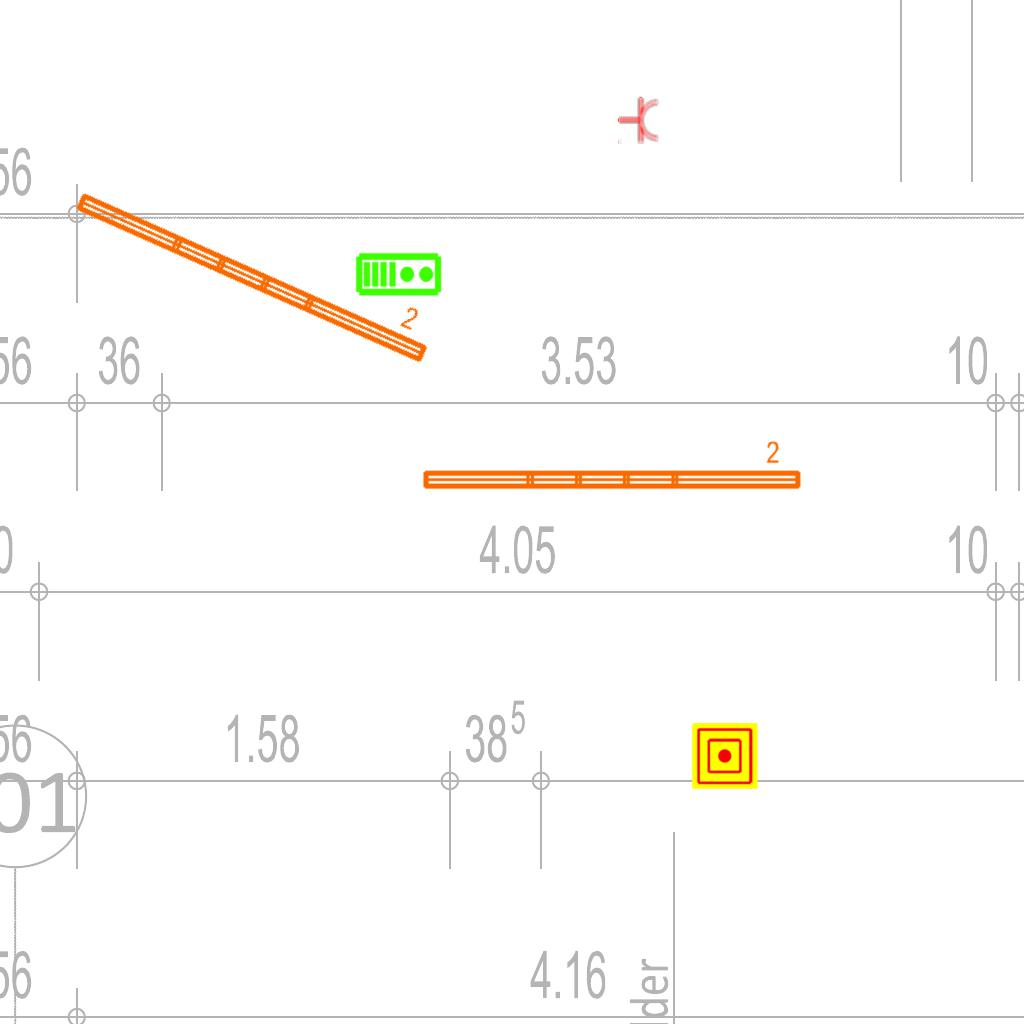Ambulanz_Pendelleuchte_LED: (68, 161, 445, 371), (418, 439, 805, 495)
Gegensprechanlage_mit_Video: (355, 250, 443, 297)
NAM-Nichtautomatischer_Melder: (692, 723, 758, 789)
Schukosteckdose_einfach: (617, 96, 660, 146)
